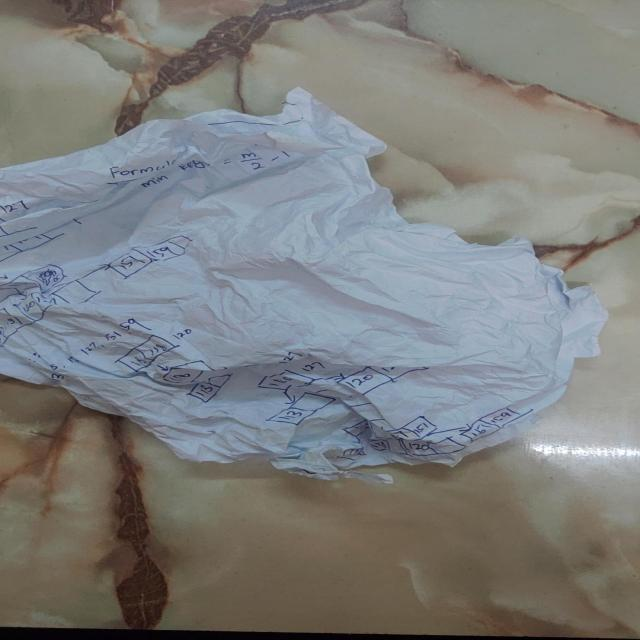paper: (0, 91, 598, 477)
